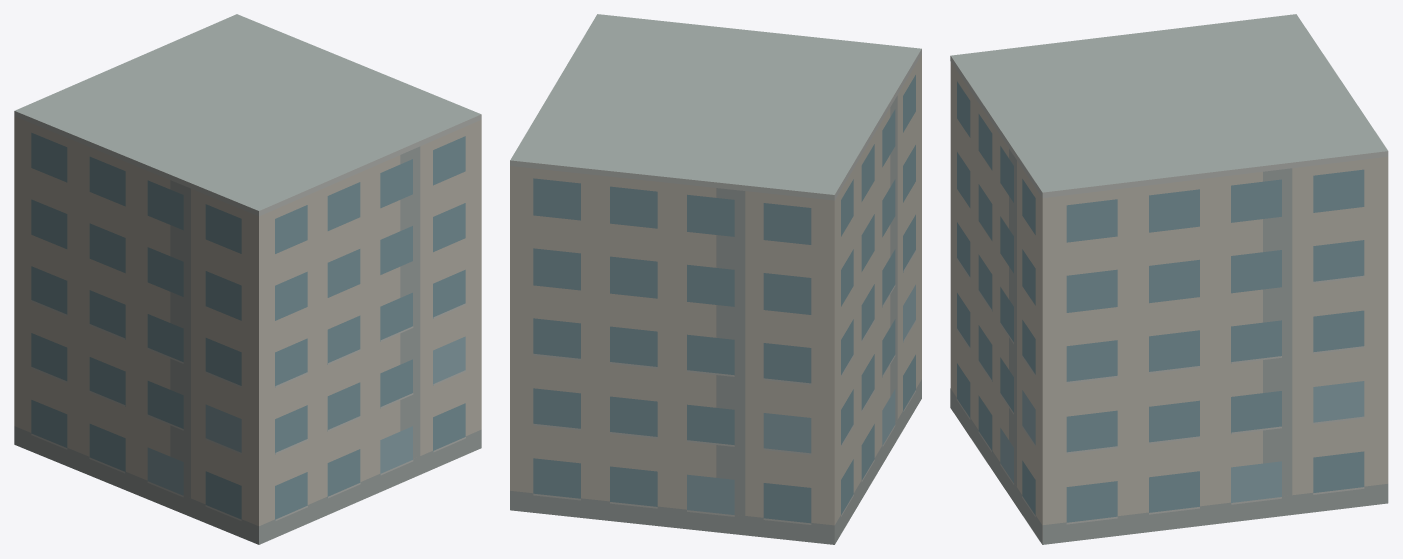
Rendered from residential-5980ce12-3722-49f0-aaba-6a74bcb7b441.glb.
3 renders of one model, left to right at view 1: azimuth 30°, elevation 25°; view 2: azimuth 150°, elevation 25°; view 3: azimuth 270°, elevation 25°, orthographic. The views are drawn at different scales.
Parts seen in each view (by area): view 1: residential-5980ce12-3722-49f0-aaba-6a74bcb7b441.tmp; view 2: residential-5980ce12-3722-49f0-aaba-6a74bcb7b441.tmp; view 3: residential-5980ce12-3722-49f0-aaba-6a74bcb7b441.tmp.
Part boxes in pixels (x1,y1,x2,y2): residential-5980ce12-3722-49f0-aaba-6a74bcb7b441.tmp: (14, 14, 481, 544); residential-5980ce12-3722-49f0-aaba-6a74bcb7b441.tmp: (510, 14, 921, 544); residential-5980ce12-3722-49f0-aaba-6a74bcb7b441.tmp: (950, 14, 1388, 544).
Size of the model in its own units: 16.59 by 15.25 by 17.19.
